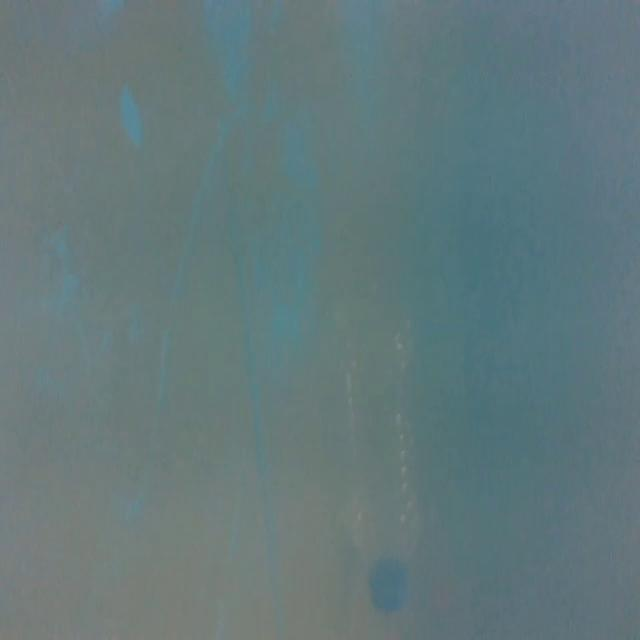plastic bottle: (333, 318, 439, 617)
